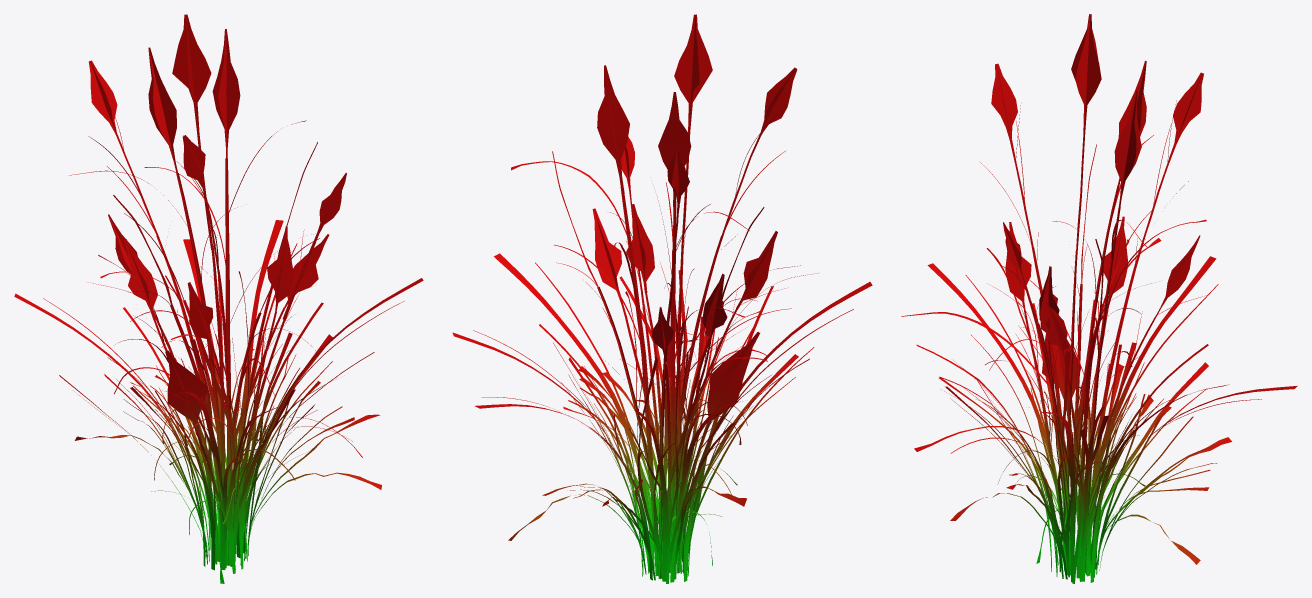
File: skFjJ_Var2_LOD0.fbx
The picture shows the model from 3 angles, left to right: view 1: azimuth 30°, elevation 25°; view 2: azimuth 150°, elevation 25°; view 3: azimuth 270°, elevation 25°; orthographic projection. The views are drawn at different scales.
Parts seen in each view (by area): view 1: _fdb3_Var2_LOD0; view 2: _fdb3_Var2_LOD0; view 3: _fdb3_Var2_LOD0.
Part boxes in pixels (<box>): _fdb3_Var2_LOD0: <box>14,14,423,583</box>; _fdb3_Var2_LOD0: <box>452,14,872,583</box>; _fdb3_Var2_LOD0: <box>901,14,1297,583</box>.
Bounding box in the file's own units: 104 × 169 × 112.
